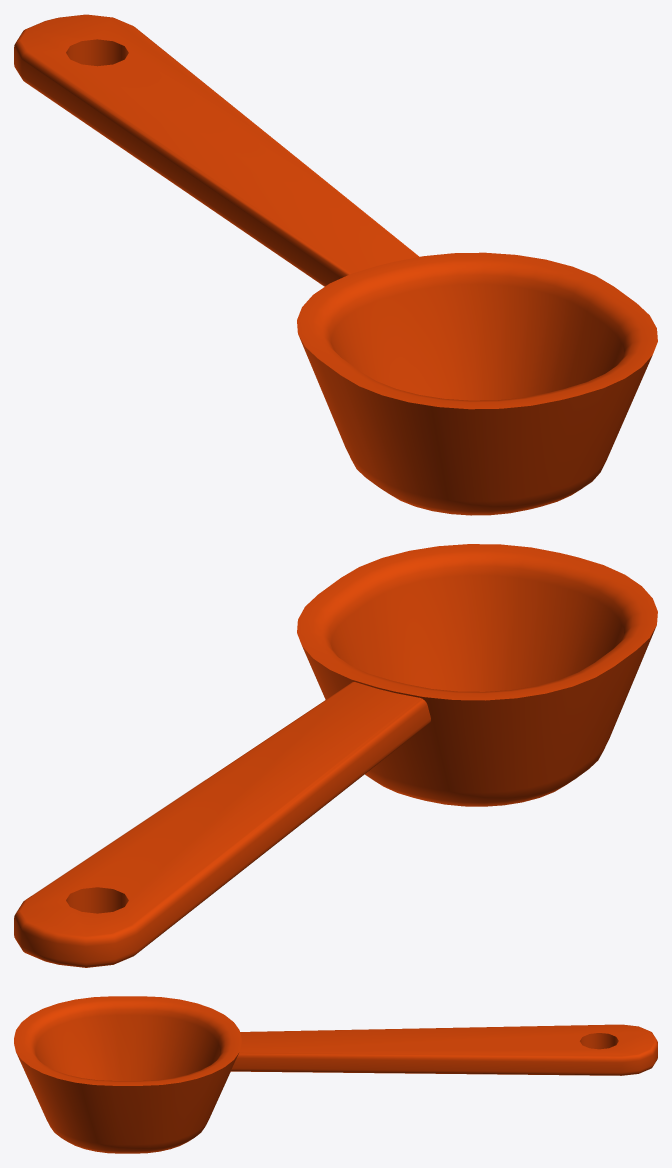
File: Kitchen Tools_1.fbx
3 renders of one model, top to bottom at view 1: azimuth 30°, elevation 25°; view 2: azimuth 150°, elevation 25°; view 3: azimuth 270°, elevation 25°, orthographic. The views are drawn at different scales.
Visible parts, largest first — view 1: Kitchen Tools_1; view 2: Kitchen Tools_1; view 3: Kitchen Tools_1.
Boxes of the visible parts, left/top/right/bottom form: Kitchen Tools_1: left=14, top=14, right=657, bottom=515; Kitchen Tools_1: left=14, top=544, right=657, bottom=967; Kitchen Tools_1: left=14, top=996, right=657, bottom=1153.
Bounding box in the file's own units: 0.0972 × 0.0438 × 0.2953.
